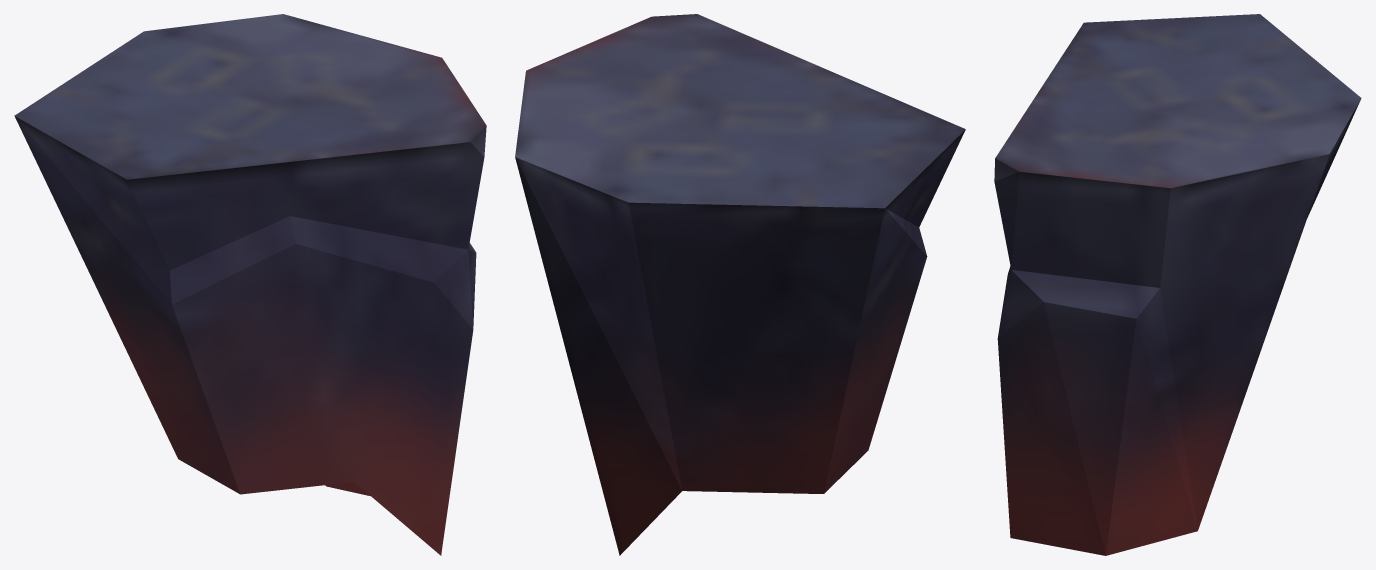
File: Area05_11.fbx
3 views of the same model, side by side, from view 1: azimuth 30°, elevation 25°; view 2: azimuth 150°, elevation 25°; view 3: azimuth 270°, elevation 25° (orthographic). The views are drawn at different scales.
Parts seen in each view (by area): view 1: Area05_11; view 2: Area05_11; view 3: Area05_11.
Boxes of the visible parts, x1,y1,x2,y2 form: Area05_11: [14, 14, 486, 555]; Area05_11: [515, 14, 965, 555]; Area05_11: [994, 14, 1361, 555].
Bounding box in the file's own units: 948 × 987 × 844.
